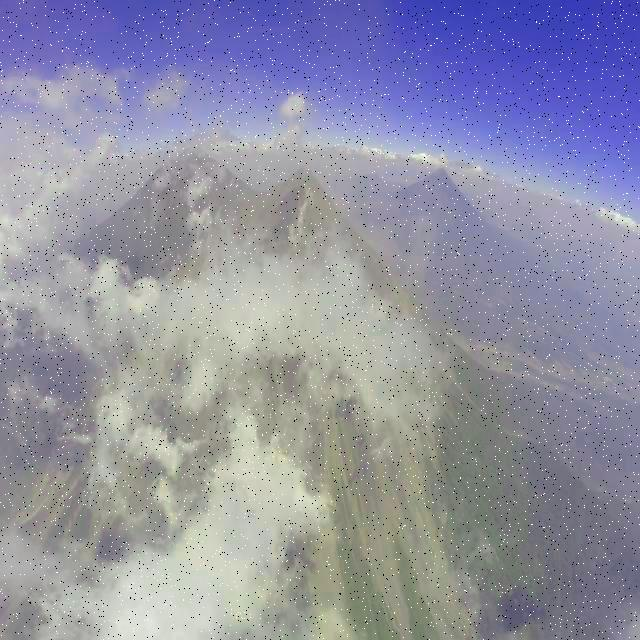Summit: (270, 162, 334, 211)
